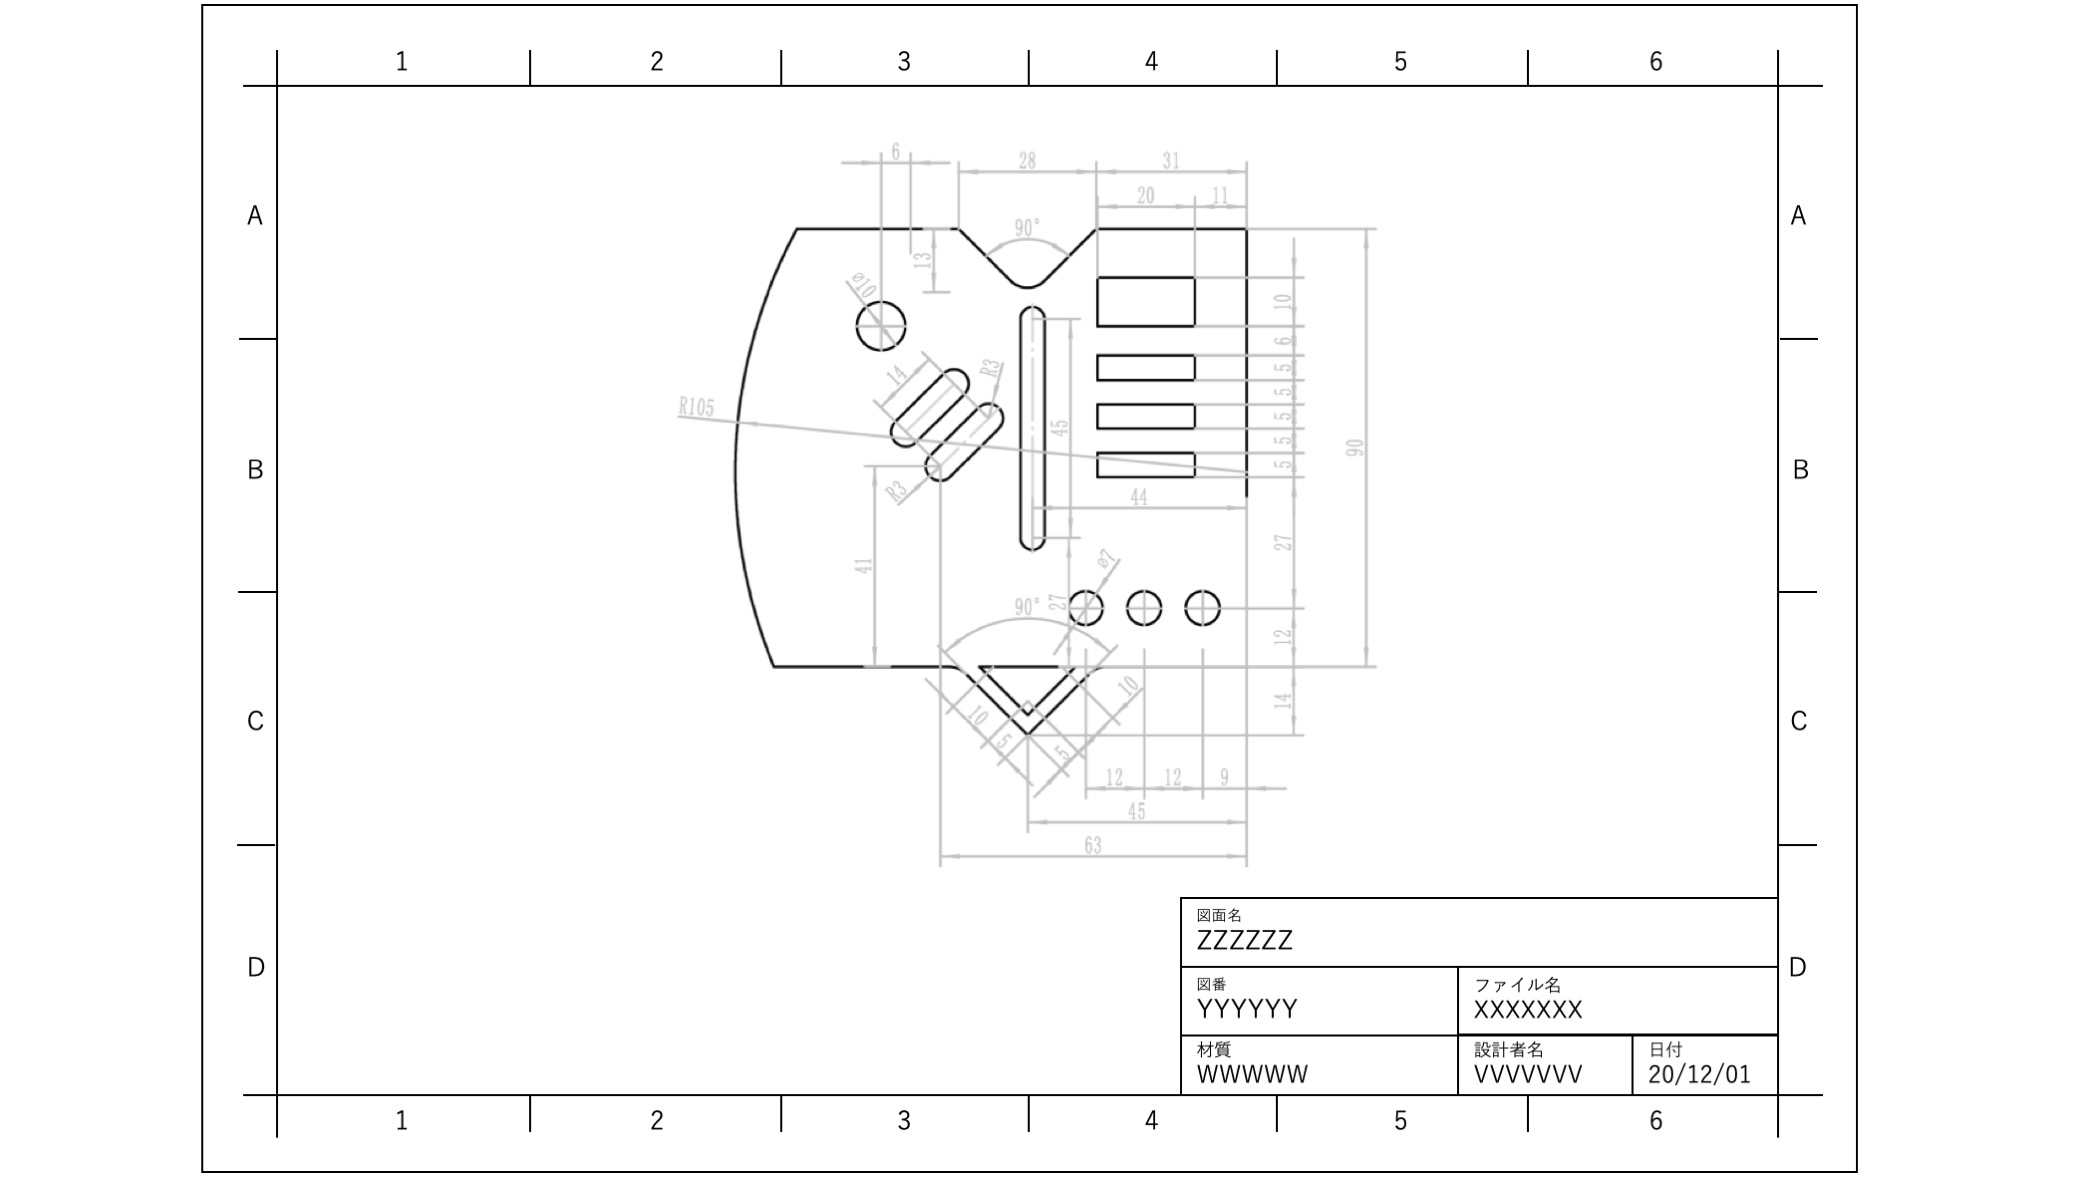circle: (850, 284, 912, 352), (1060, 583, 1113, 632), (1121, 580, 1167, 630), (1184, 577, 1226, 632)
rectangle: (1089, 265, 1203, 336), (1090, 340, 1204, 388), (1089, 395, 1207, 435), (1089, 447, 1204, 483)
round_rectangle: (1015, 298, 1053, 551), (886, 355, 974, 450), (922, 395, 1008, 483)
triangle: (974, 649, 1090, 717)
